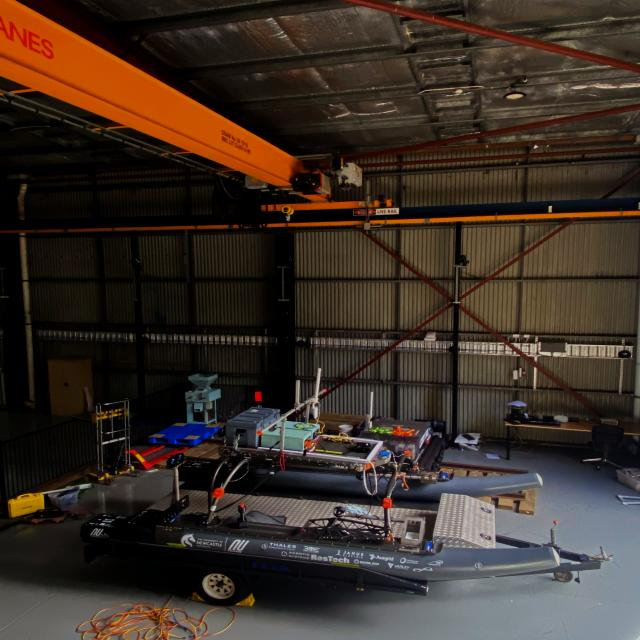matrix: (253, 390, 264, 402)
